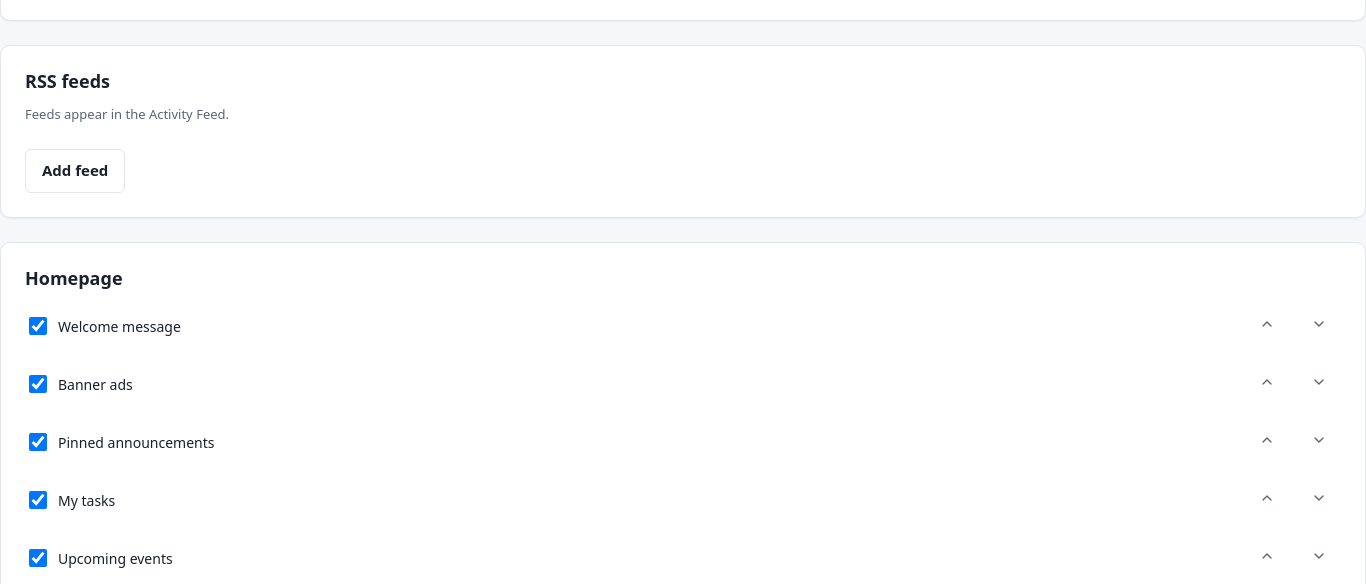
Test: SettingsPage › lists all seven homepage widgets checked and reorders via Up/Down into the save body
(page scrolled)
Expected: the checkbox named "Show Banner ads widget" is checked, [29, 362, 47, 406]
Expected: the button named "Move Welcome message up" is disabled, [1245, 304, 1289, 348]
What coordinates should you click on to do the following:
click the button named "Move Banner ads up"
I would click on:
 (1267, 384)
Its box is [1245, 362, 1289, 406].
(page scrolled)
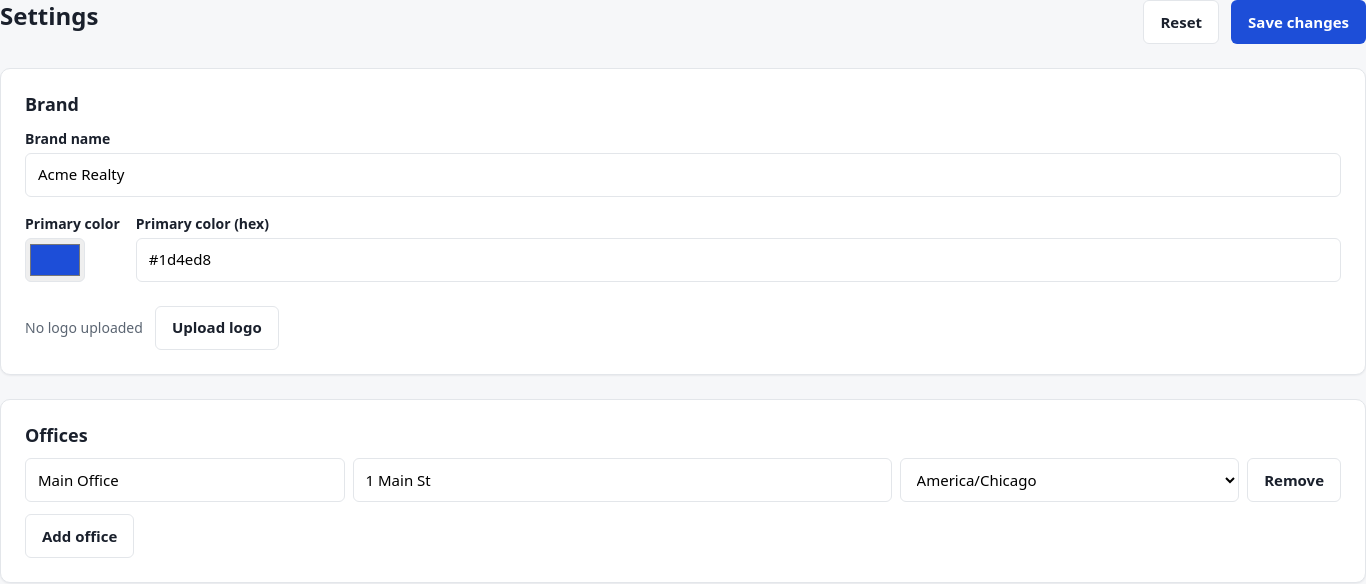
What coordinates should you click on to do the following:
click the button "Save changes"
I would click on:
 (1299, 22)
Its box is [1231, 0, 1365, 44].
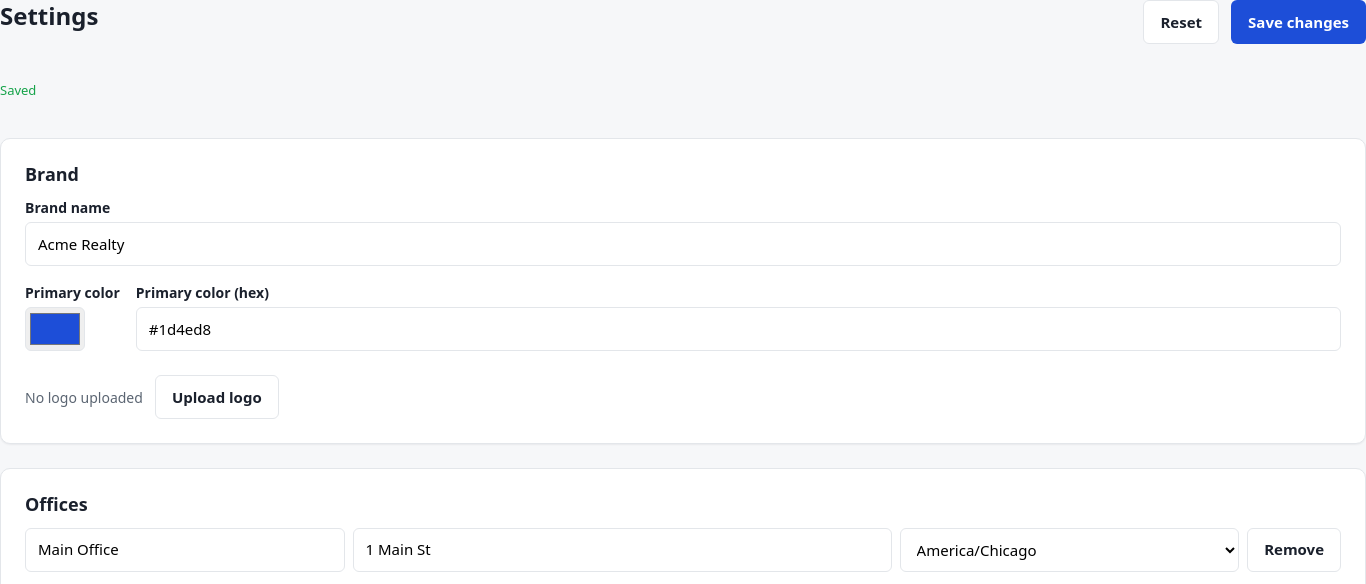
Expected: the text "Saved" is shown, [0, 81, 36, 99]
